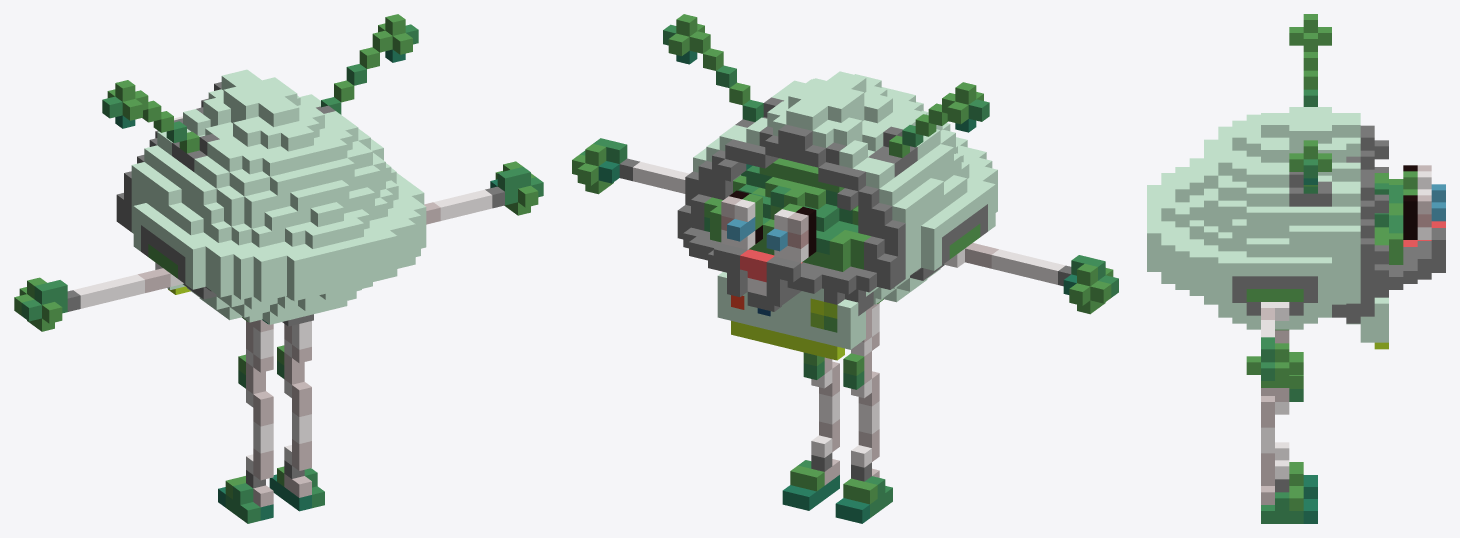
The model's file is Dewy.fbx.
3 renders of one model, left to right at view 1: azimuth 30°, elevation 25°; view 2: azimuth 150°, elevation 25°; view 3: azimuth 270°, elevation 25°, orthographic. The views are drawn at different scales.
Visible parts, largest first — view 1: GumPerson; view 2: GumPerson; view 3: GumPerson.
Part boxes in pixels (x1,y1,x2,y2): GumPerson: (14, 14, 543, 523); GumPerson: (572, 14, 1118, 523); GumPerson: (1147, 14, 1445, 523).
Size of the model in its own units: 400 by 330 by 210.
Materials: 1 (1 with a texture image).
